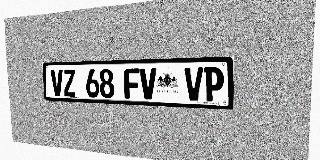6: (85, 69, 100, 97)
8: (99, 69, 114, 98)
F: (124, 68, 140, 99)
P: (204, 67, 224, 102)
V: (185, 67, 203, 101), (140, 68, 156, 99), (50, 69, 64, 96)
Z: (63, 69, 76, 97)
